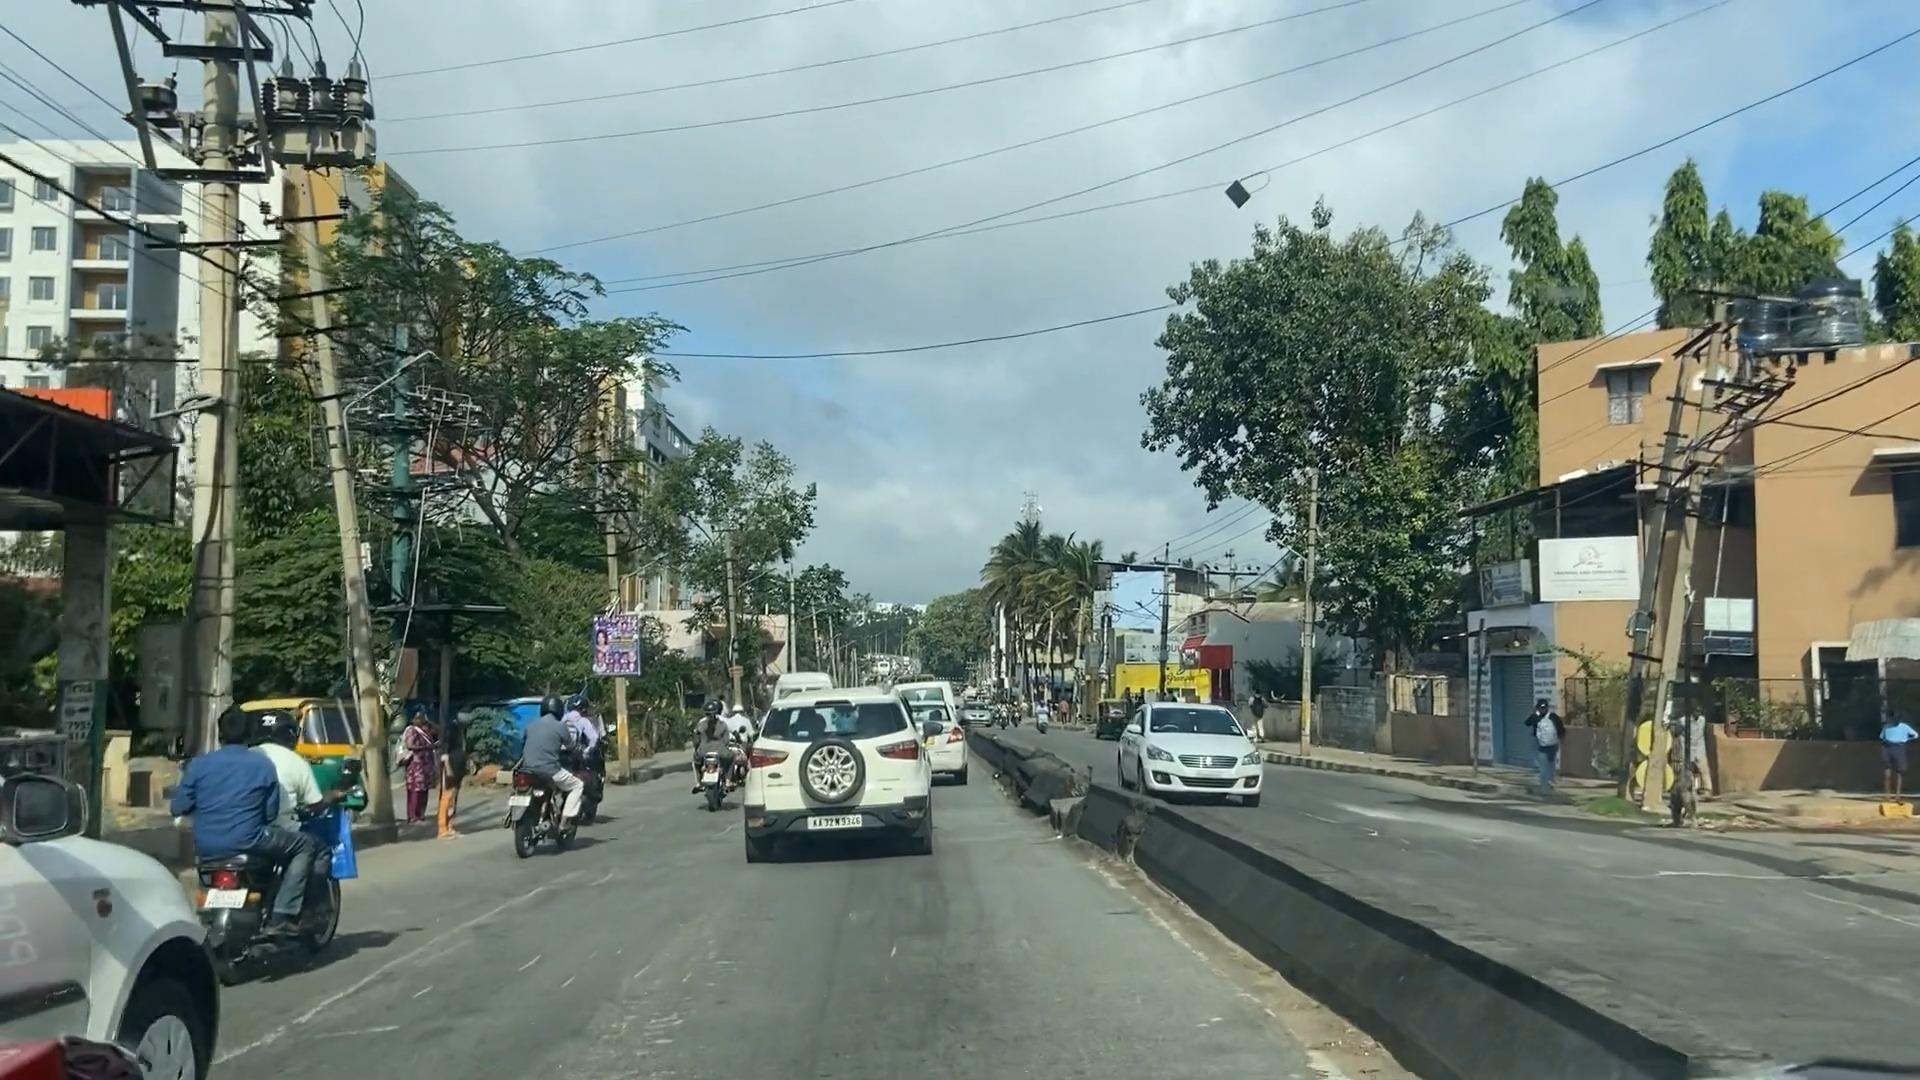LMV: (189, 719, 343, 945), (744, 692, 926, 851), (514, 702, 599, 860)
RoadDamages: (264, 860, 587, 1034)
